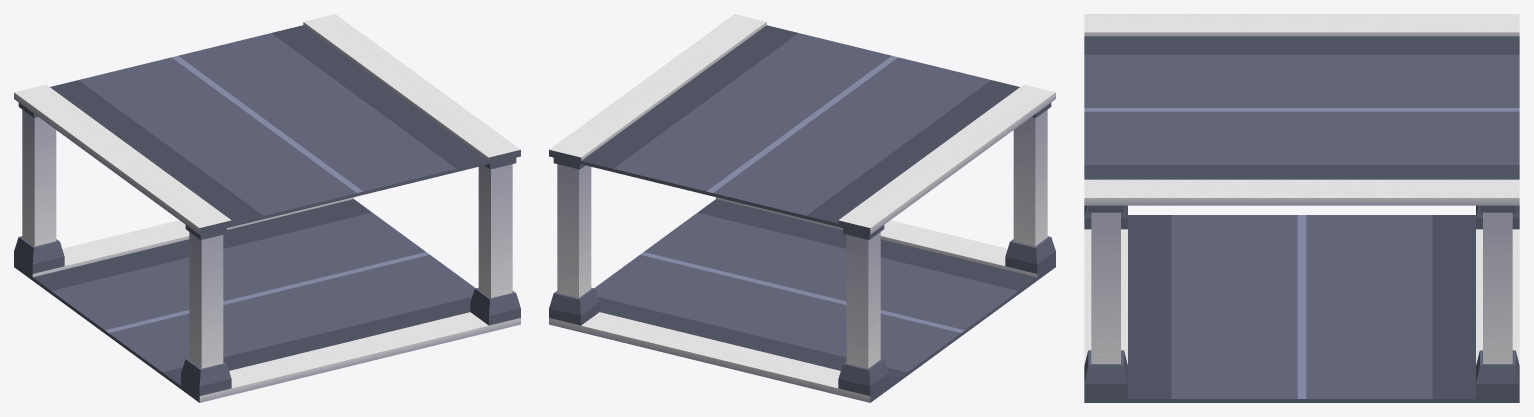
File: bridge_deck.glb
The picture shows the model from 3 angles, left to right: view 1: azimuth 30°, elevation 25°; view 2: azimuth 150°, elevation 25°; view 3: azimuth 270°, elevation 25°; orthographic projection. The views are drawn at different scales.
Visible parts, largest first — view 1: road-bridge; view 2: road-bridge; view 3: road-bridge.
Boxes of the visible parts, box(x1,y1,x2,y2) form: road-bridge: box(14, 14, 520, 402); road-bridge: box(549, 14, 1055, 402); road-bridge: box(1084, 14, 1519, 402).
Size of the model in its own units: 1 by 0.52 by 1.
Materials: 1 (1 with a texture image).
